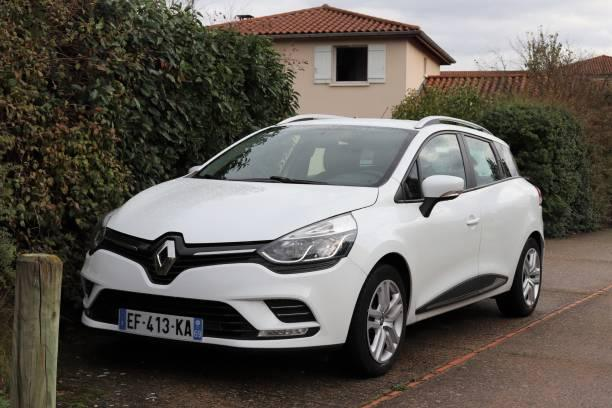Renault: (149, 233, 183, 282)
